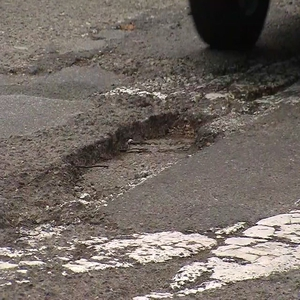pothole: (64, 110, 220, 202)
